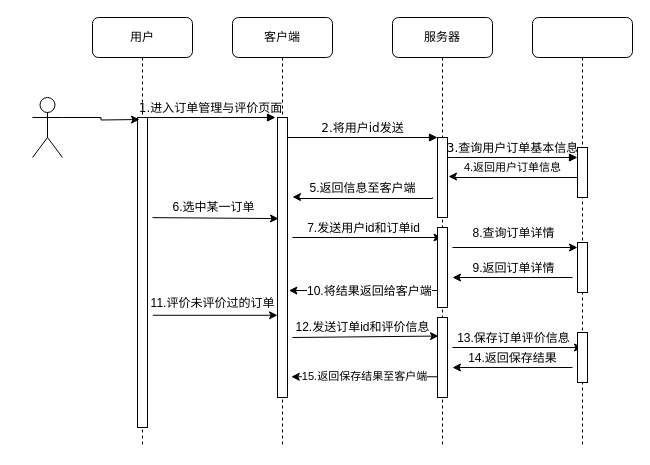
This 650x465 diagram has some shape labels left out. The box of each missing label's shape, as (x1, y1, x2, y2) in pixels:
已登录用户: (32, 96, 62, 158)
数据库: (532, 16, 632, 448)
